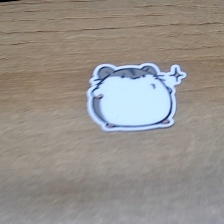mouse: (82, 61, 186, 133)
